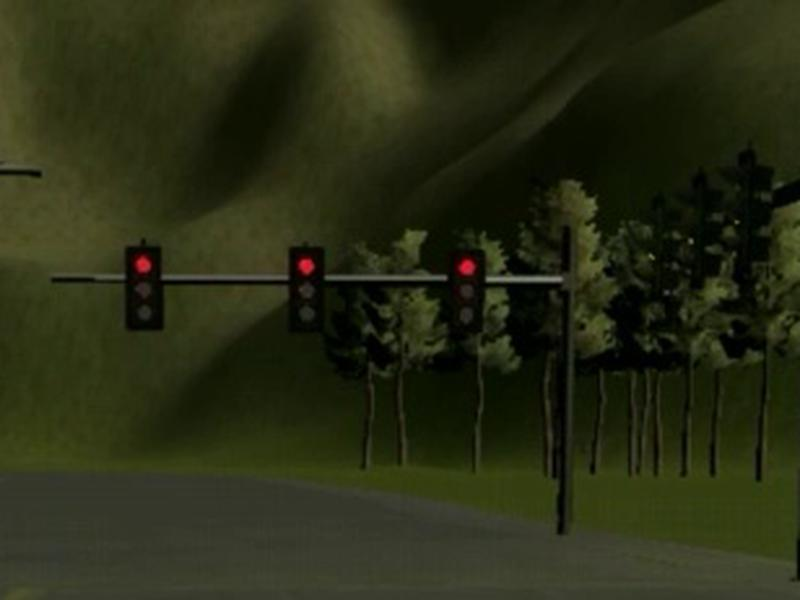Red: (447, 247, 486, 334), (124, 246, 163, 331), (288, 246, 324, 333)
